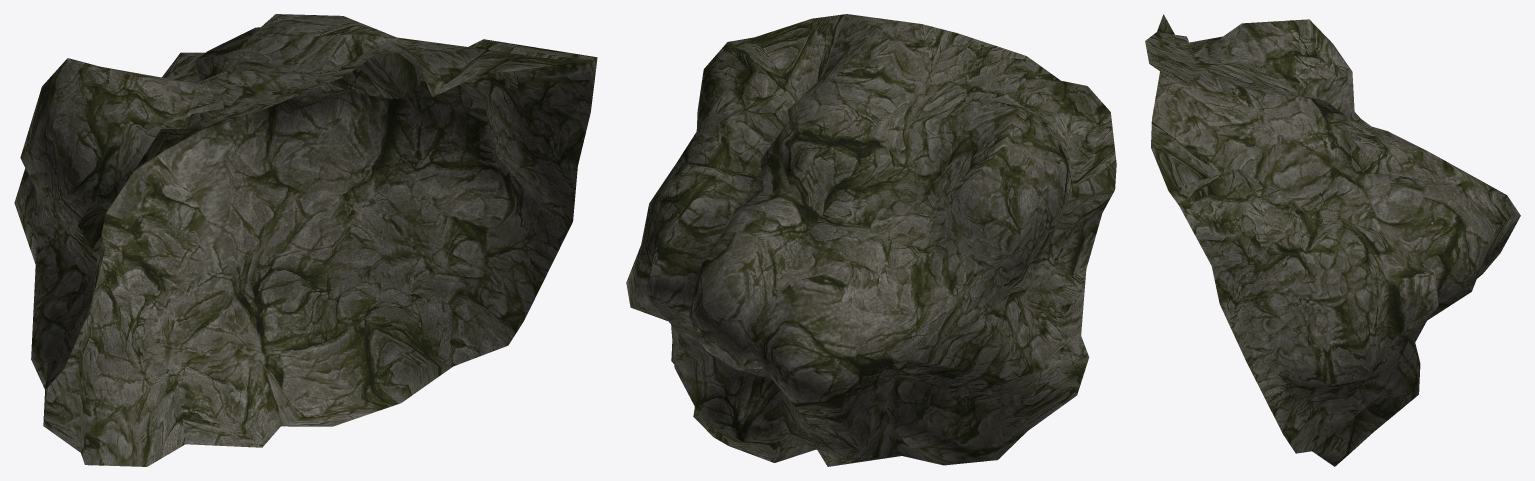
Rendered from TI_Cliff_01_m_LOD_02.fbx.
The picture shows the model from 3 angles, left to right: view 1: azimuth 30°, elevation 25°; view 2: azimuth 150°, elevation 25°; view 3: azimuth 270°, elevation 25°; orthographic projection. The views are drawn at different scales.
Visible parts, largest first — view 1: TI_Cliff_01_m_LOD_02; view 2: TI_Cliff_01_m_LOD_02; view 3: TI_Cliff_01_m_LOD_02.
Part boxes in pixels (bbox=[...]): TI_Cliff_01_m_LOD_02: bbox=[14, 14, 597, 466]; TI_Cliff_01_m_LOD_02: bbox=[626, 14, 1116, 466]; TI_Cliff_01_m_LOD_02: bbox=[1145, 14, 1520, 466].
Size of the model in its own units: 8.73 by 7.57 by 7.39.
